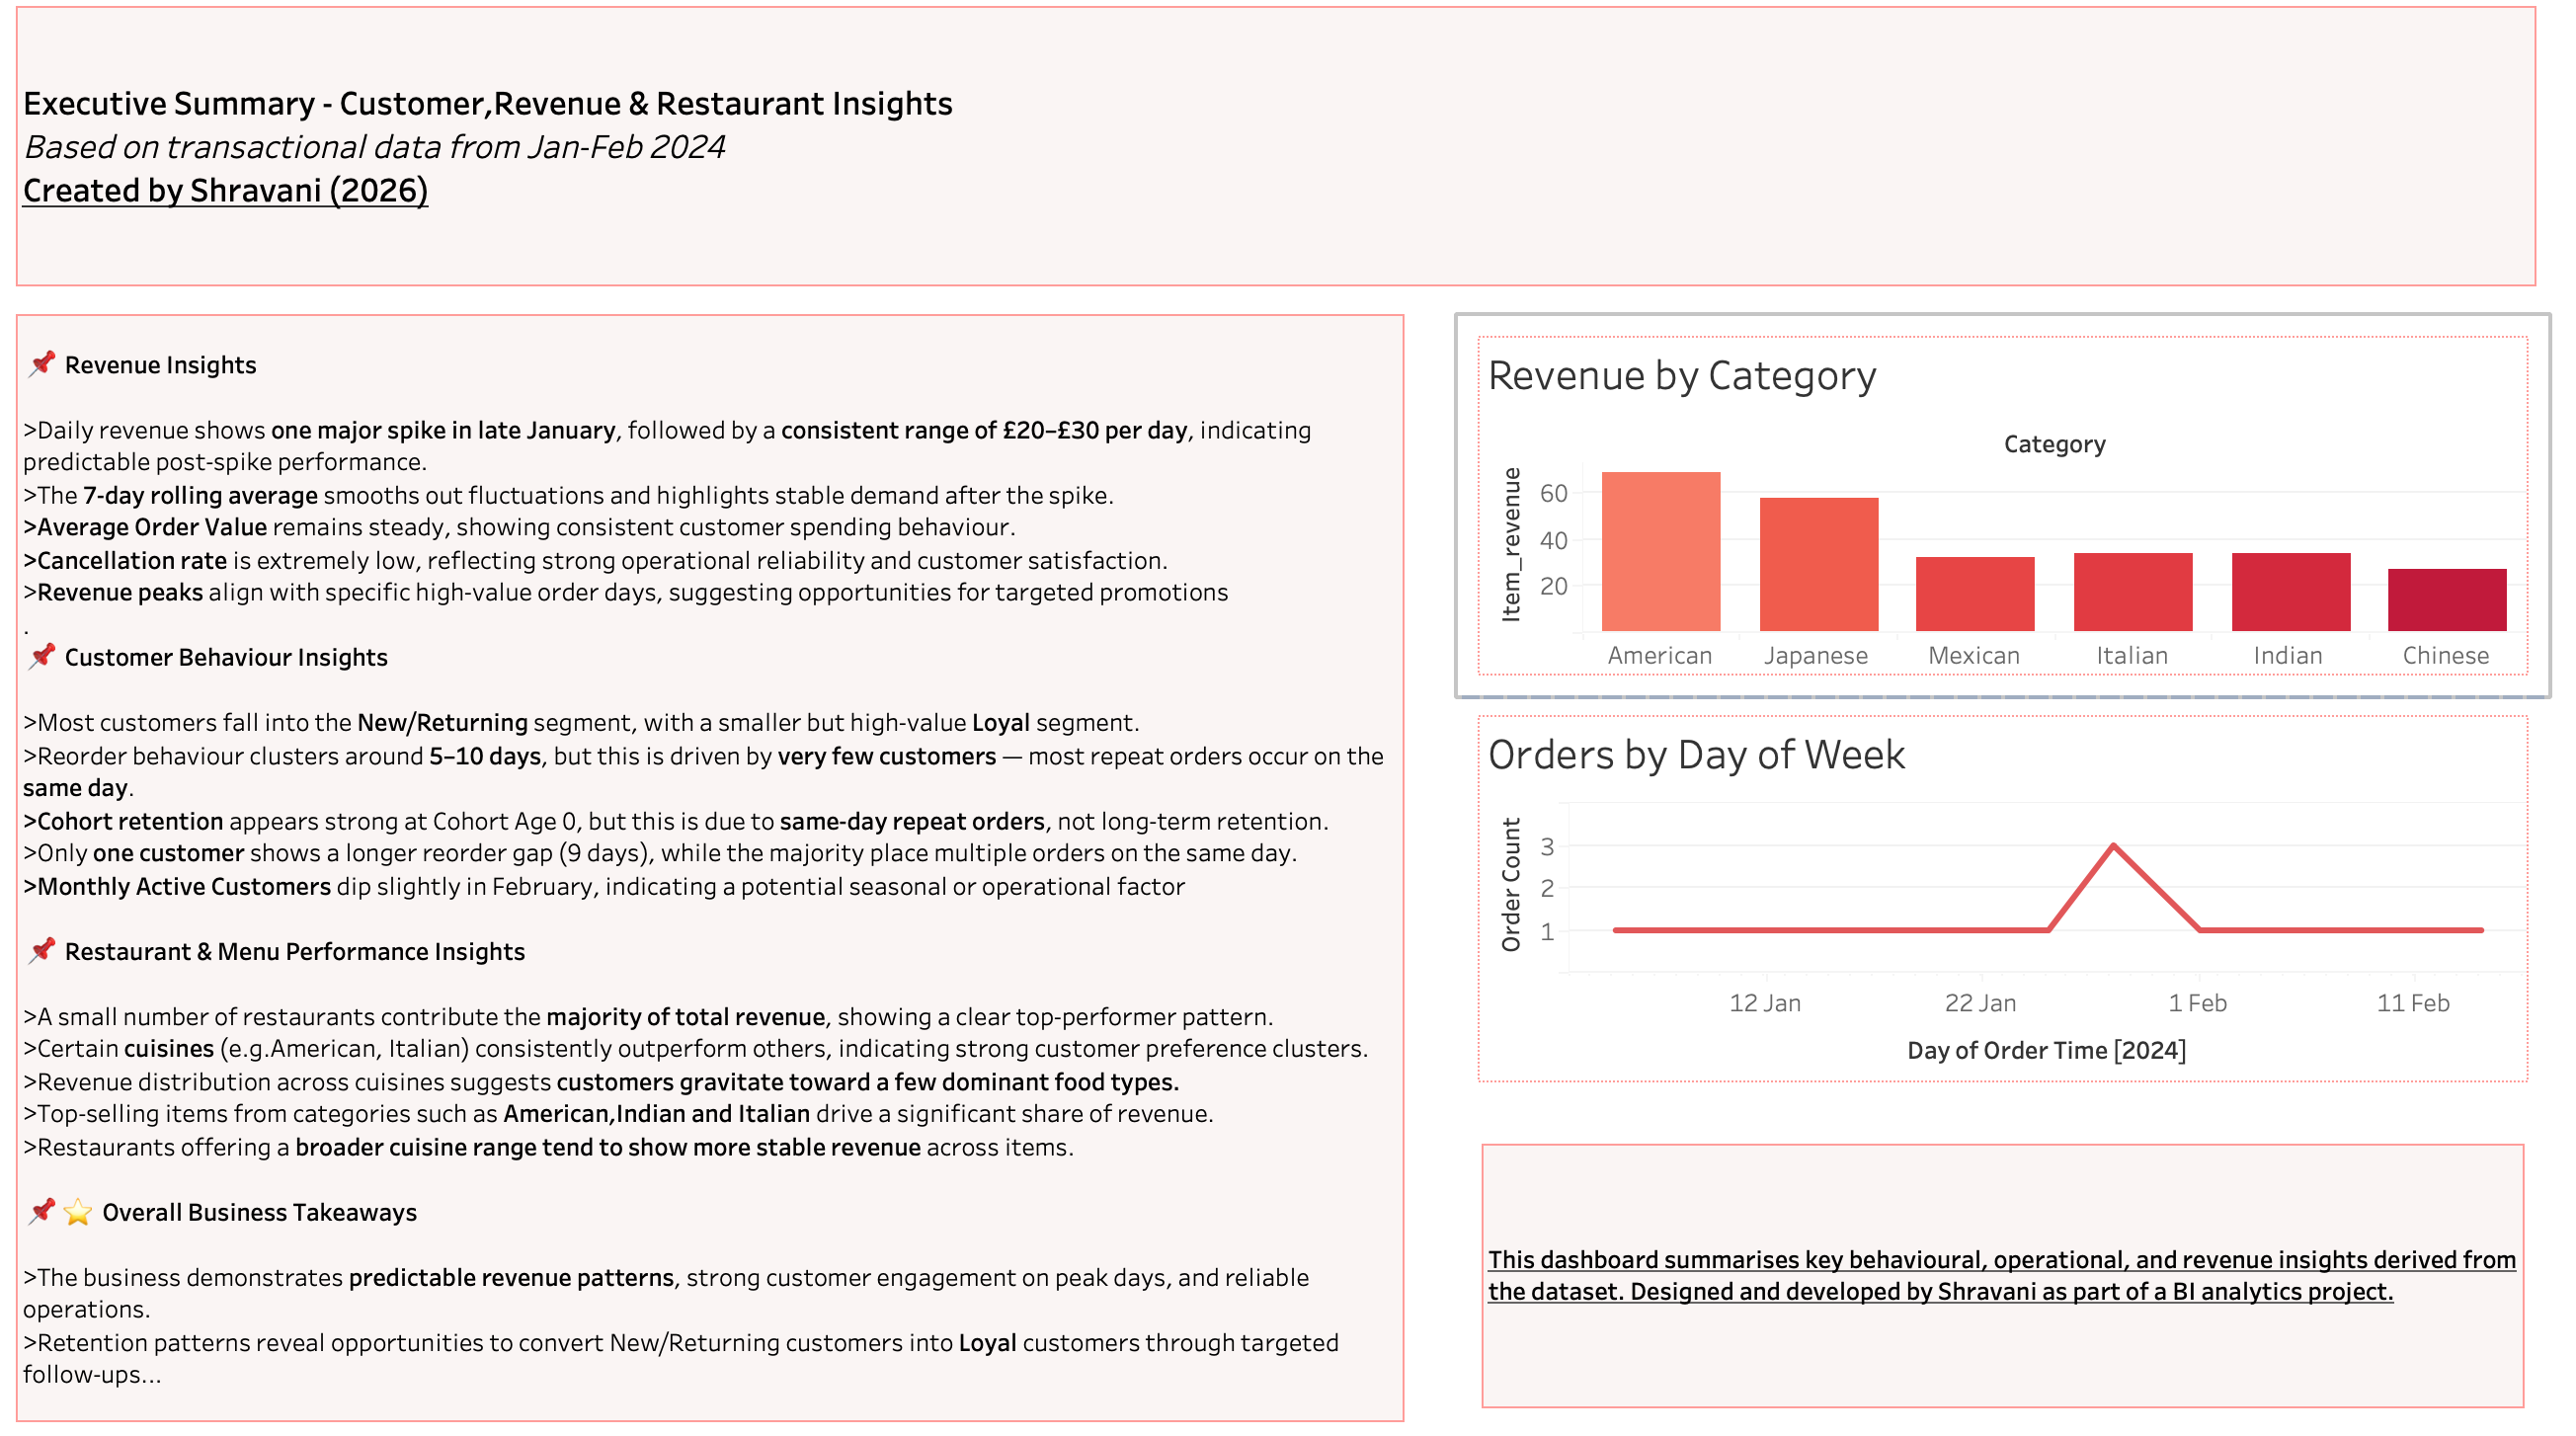

This screenshot's page, from the dashboard's own definition file:
{"tool":"tableau","page":{"name":"Dashboard 4","canvas":[1000,1000],"units":"permille","ordinal":3},"visuals":[{"type":"text","box":[12.1,6.8,963.8,193.5]},{"type":"text","box":[4.8,206,546.1,791.3]},{"type":"worksheet","title":"Sheet 3","mark":"Automatic","rows":["Calculation_4828615696019457"],"cols":["category"],"box":[563.1,220.9,417.2,261.5]},{"type":"worksheet","title":"Sheet 6","mark":"Automatic","rows":["order_id (fact!order!items!clean)"],"cols":["order_time"],"box":[563.1,482.3,417.2,280.5]},{"type":"text","box":[565.1,777.8,413.8,210]}]}

Visuals, with their boxes on the dashboard's canvas, which has no fixed pixel size, in thousandths of its width and height (x1, y1, x2, y2). These are canvas units, not pixel positions in the 2576x1436 screenshot, which may show the page scaled, cropped or inside an application window:
text: <box>12,7,976,200</box>
text: <box>5,206,551,997</box>
"Sheet 3" worksheet: <box>563,221,980,482</box>
"Sheet 6" worksheet: <box>563,482,980,763</box>
text: <box>565,778,979,988</box>
